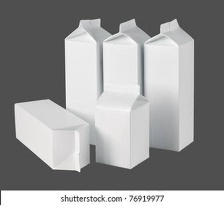carton: (147, 15, 195, 153), (11, 95, 93, 174), (62, 17, 112, 145), (93, 81, 152, 171), (100, 17, 155, 95)
